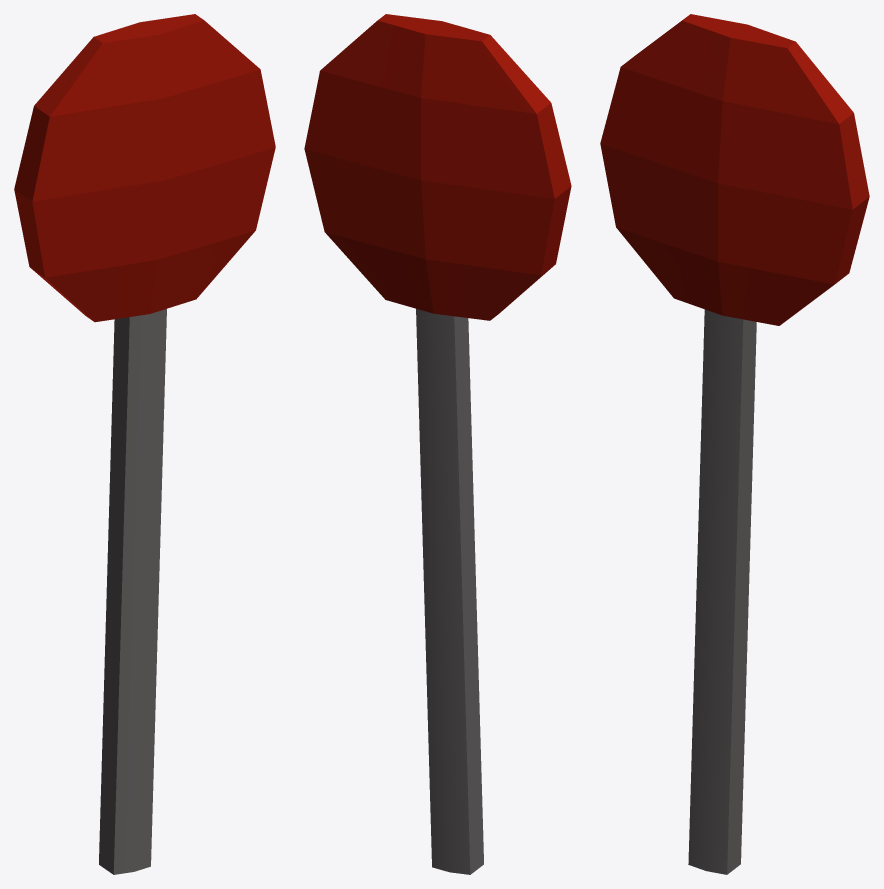
File: Stop_Sign.fbx
3 views of the same model, side by side, from view 1: azimuth 30°, elevation 25°; view 2: azimuth 150°, elevation 25°; view 3: azimuth 330°, elevation 25° (orthographic).
Parts seen in each view (by area): view 1: polySurface2; view 2: polySurface2; view 3: polySurface2.
Boxes of the visible parts, x1=… form: polySurface2: x1=14, y1=14, x2=275, y2=874; polySurface2: x1=304, y1=14, x2=571, y2=874; polySurface2: x1=600, y1=14, x2=869, y2=874.
Size of the model in its own units: 40.03 by 129 by 9.82.
